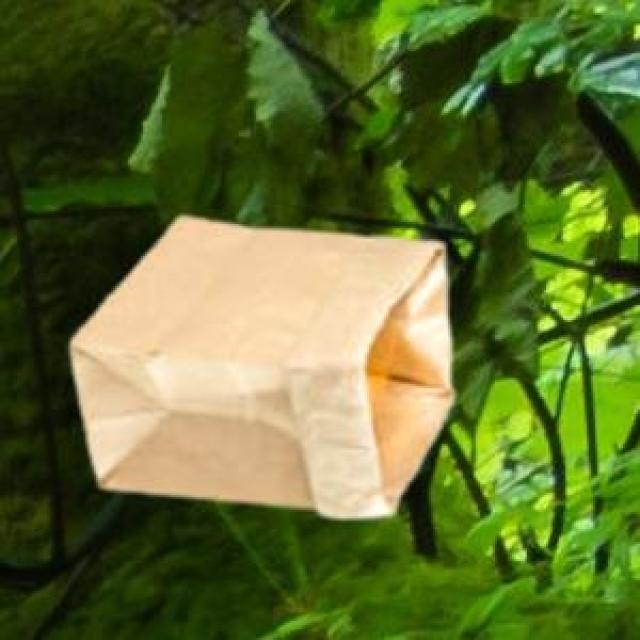paper: (66, 213, 448, 514)
